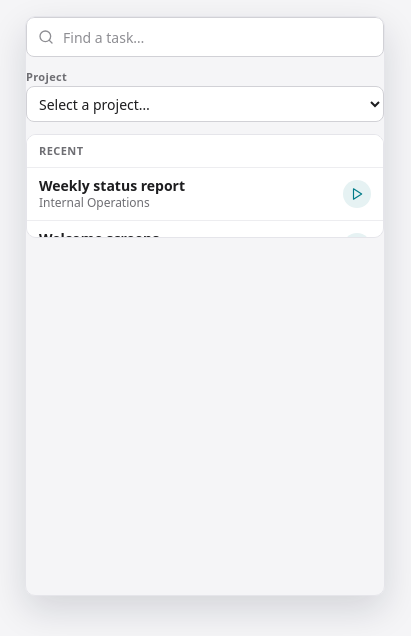
Test: TaskPicker cascade › searches with a debounce and shows breadcrumbs
Type "hero" into the search field labelled "Find a task". click: point(205, 37)
box: [26, 17, 384, 57]
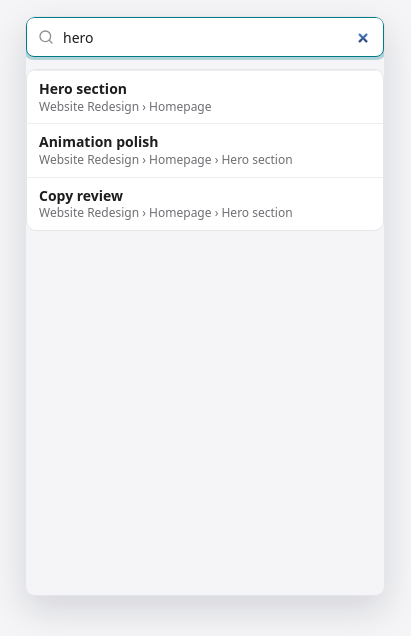
Expected: the button "Hero section Website Redesign › Homepage" is shown
Click the button "Hero section Website Redesign › Homepage". click: point(205, 97)
box: [27, 70, 383, 123]
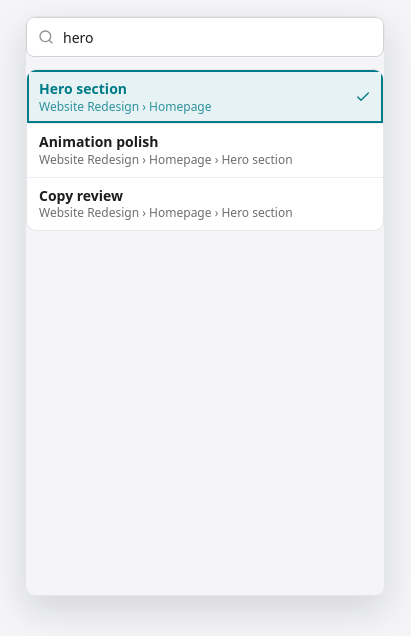
Expected: the button "Hero section Website Redesign › Homepage" is pressed, [27, 70, 383, 123]
